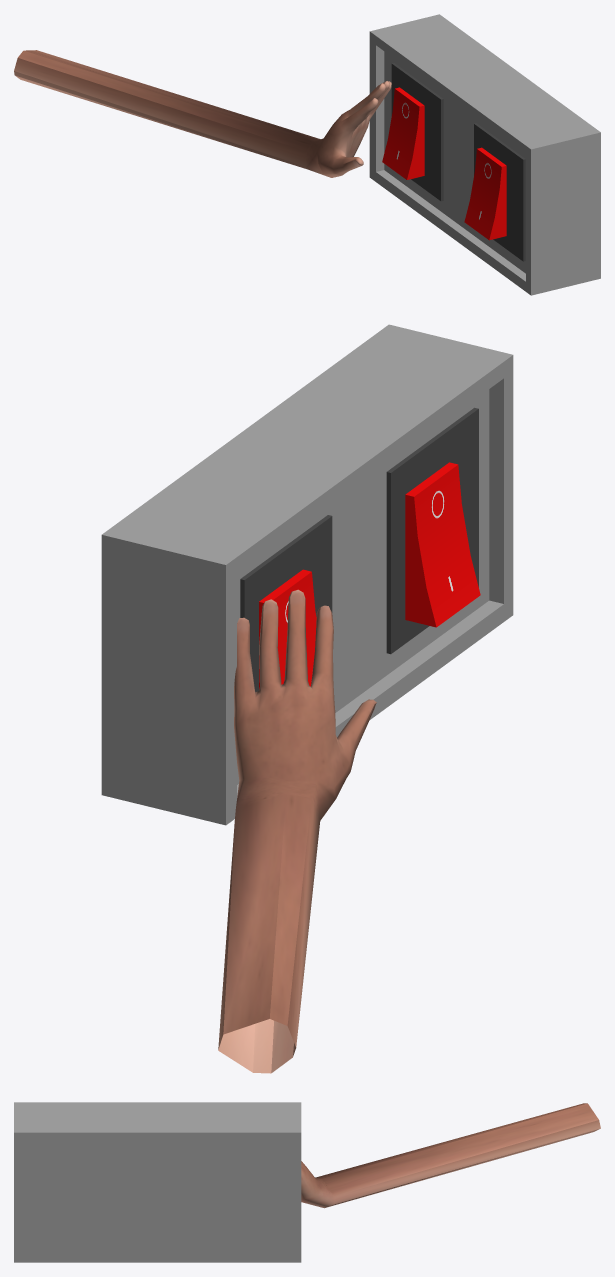
The model's file is switch_in.fbx.
3 views of the same model, one above another, from view 1: azimuth 30°, elevation 25°; view 2: azimuth 150°, elevation 25°; view 3: azimuth 270°, elevation 25° (orthographic). The views are drawn at different scales.
Parts seen in each view (by area): view 1: switch_in; view 2: switch_in; view 3: switch_in.
Part boxes in pixels (x1=…): switch_in: x1=14, y1=14, x2=600, y2=295; switch_in: x1=101, y1=324, x2=513, y2=1073; switch_in: x1=14, y1=1102, x2=600, y2=1262.
Size of the model in its own units: 51.97 by 27.15 by 111.
4 materials, 2 textured.
